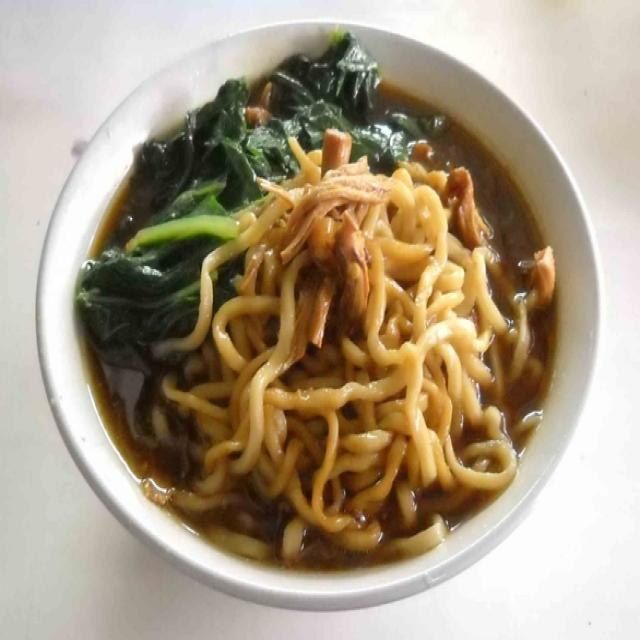面条主食: (39, 15, 588, 589)
